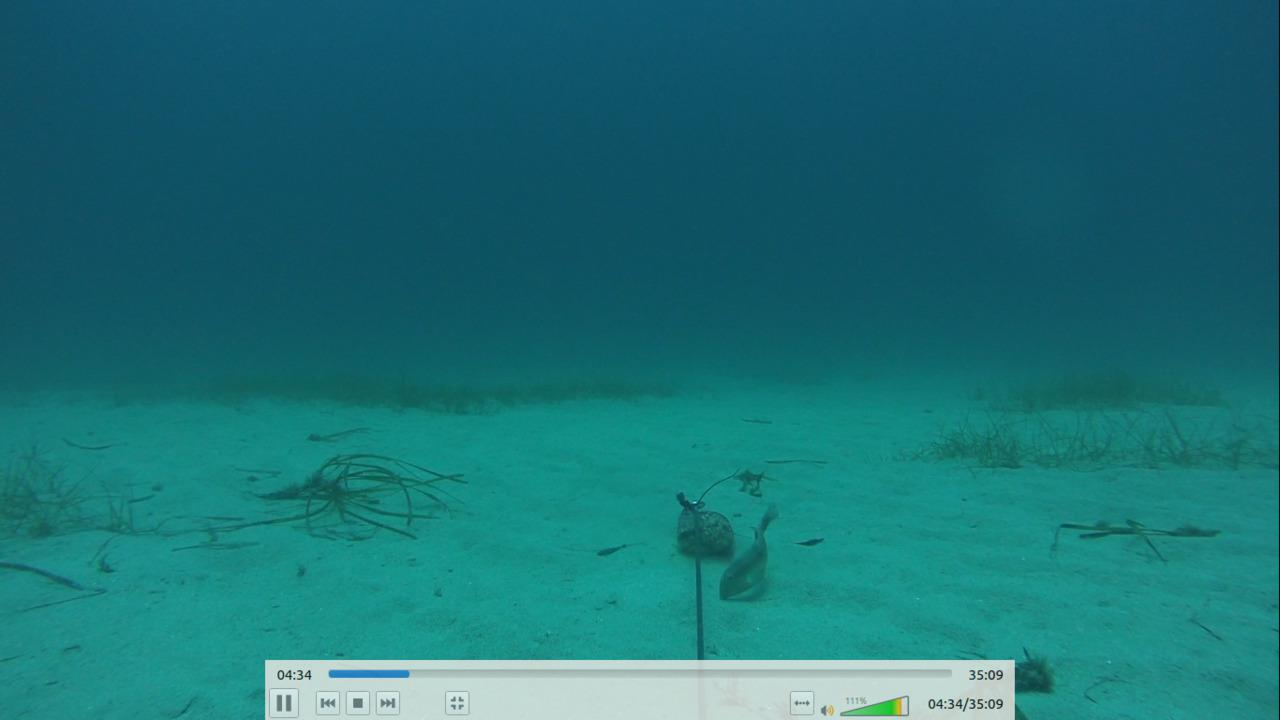raor: (713, 499, 788, 610)
